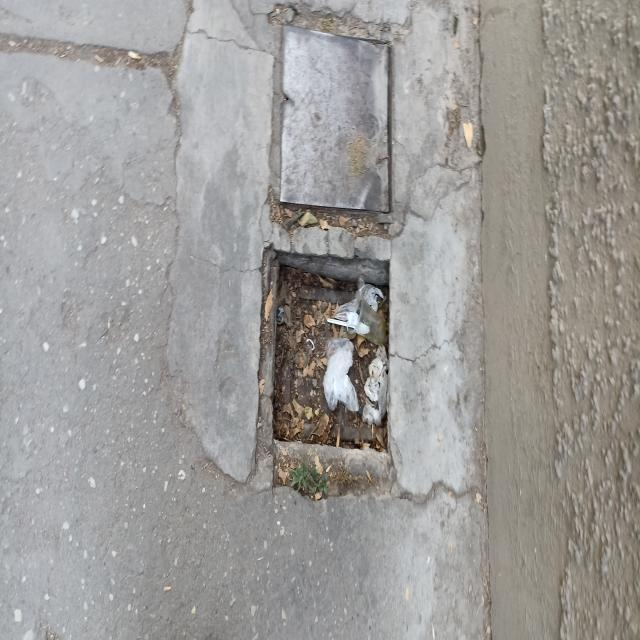hole: (251, 233, 403, 460)
